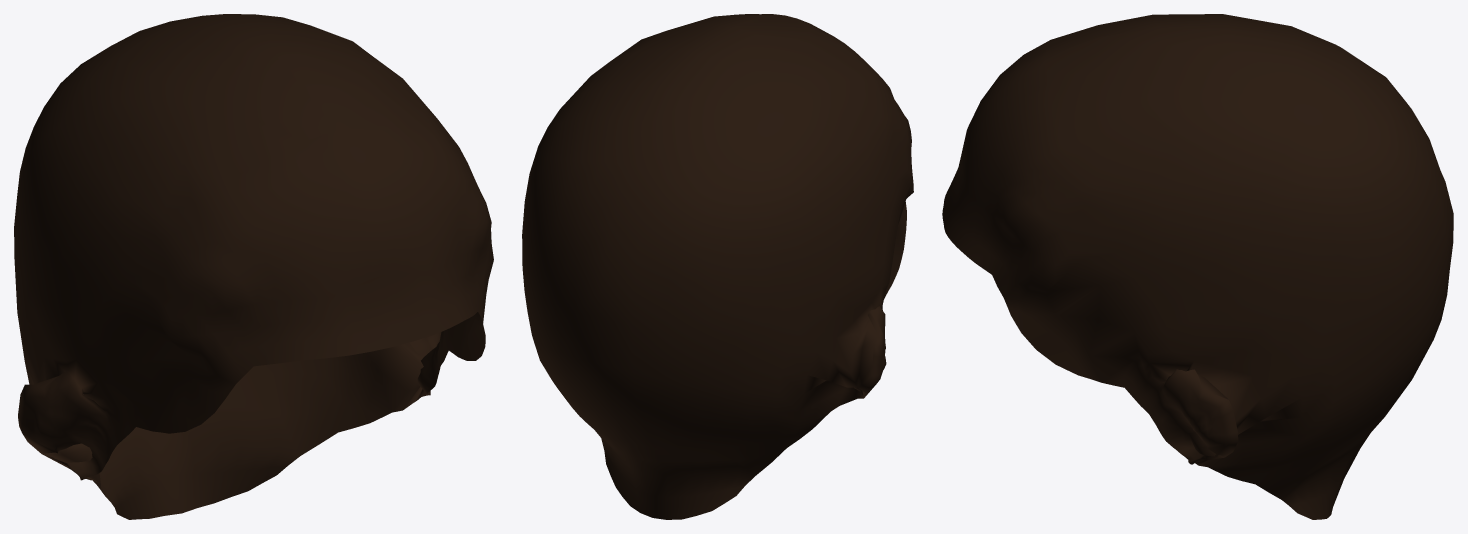
The model's file is hair_short.glb.
3 views of the same model, side by side, from view 1: azimuth 30°, elevation 25°; view 2: azimuth 150°, elevation 25°; view 3: azimuth 270°, elevation 25° (orthographic). The views are drawn at different scales.
Parts seen in each view (by area): view 1: hair_short; view 2: hair_short; view 3: hair_short.
Boxes of the visible parts, x1=… form: hair_short: x1=14, y1=14, x2=493, y2=519; hair_short: x1=522, y1=14, x2=913, y2=519; hair_short: x1=942, y1=14, x2=1453, y2=519.
Size of the model in its own units: 0.1987 by 0.2353 by 0.2268.
